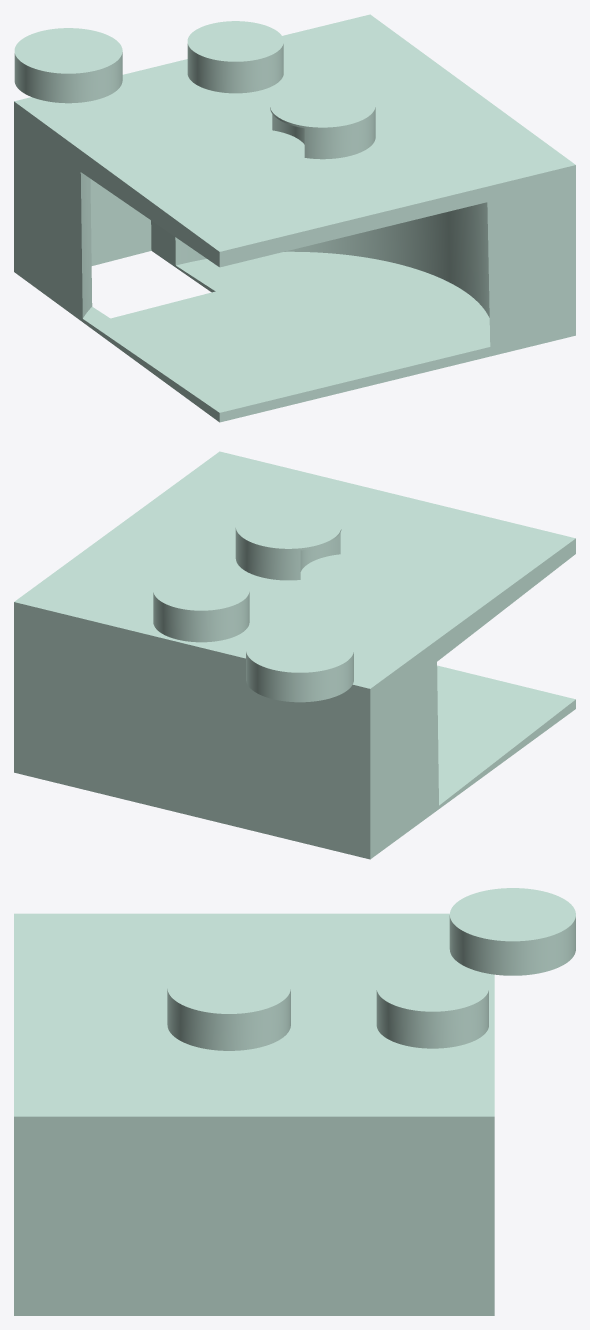
The picture shows the model from 3 angles, top to bottom: view 1: azimuth 30°, elevation 25°; view 2: azimuth 150°, elevation 25°; view 3: azimuth 270°, elevation 25°; orthographic projection. The views are drawn at different scales.
Parts seen in each view (by area): view 1: Renderer Node; view 2: Renderer Node; view 3: Renderer Node.
Boxes of the visible parts, x1,y1,x2,y2 form: Renderer Node: [14, 14, 575, 422]; Renderer Node: [14, 451, 575, 859]; Renderer Node: [14, 888, 575, 1315].
Size of the model in its own units: 1.38 by 0.75 by 1.62.
